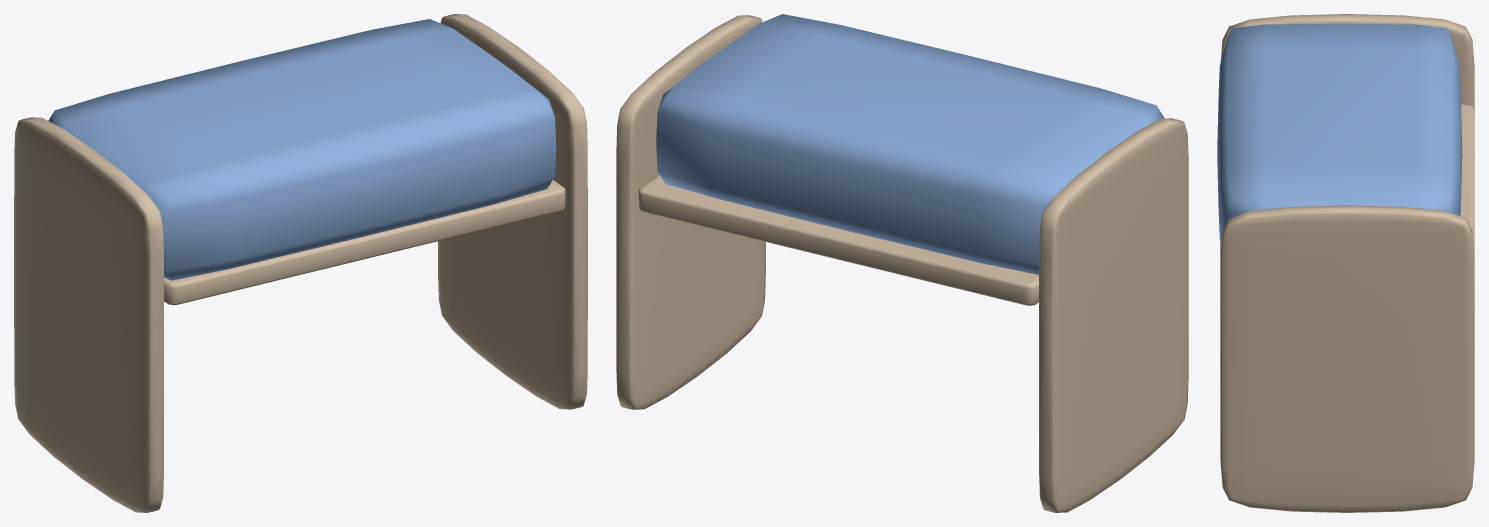
Rendered from Stool.fbx.
The picture shows the model from 3 angles, left to right: view 1: azimuth 30°, elevation 25°; view 2: azimuth 150°, elevation 25°; view 3: azimuth 270°, elevation 25°; orthographic projection. The views are drawn at different scales.
Visible parts, largest first — view 1: Stool; view 2: Stool; view 3: Stool.
Boxes of the visible parts, left/top/right/bottom form: Stool: left=14, top=14, right=587, bottom=512; Stool: left=616, top=14, right=1188, bottom=512; Stool: left=1217, top=14, right=1474, bottom=512.
Size of the model in its own units: 65.49 by 46.64 by 35.74.
